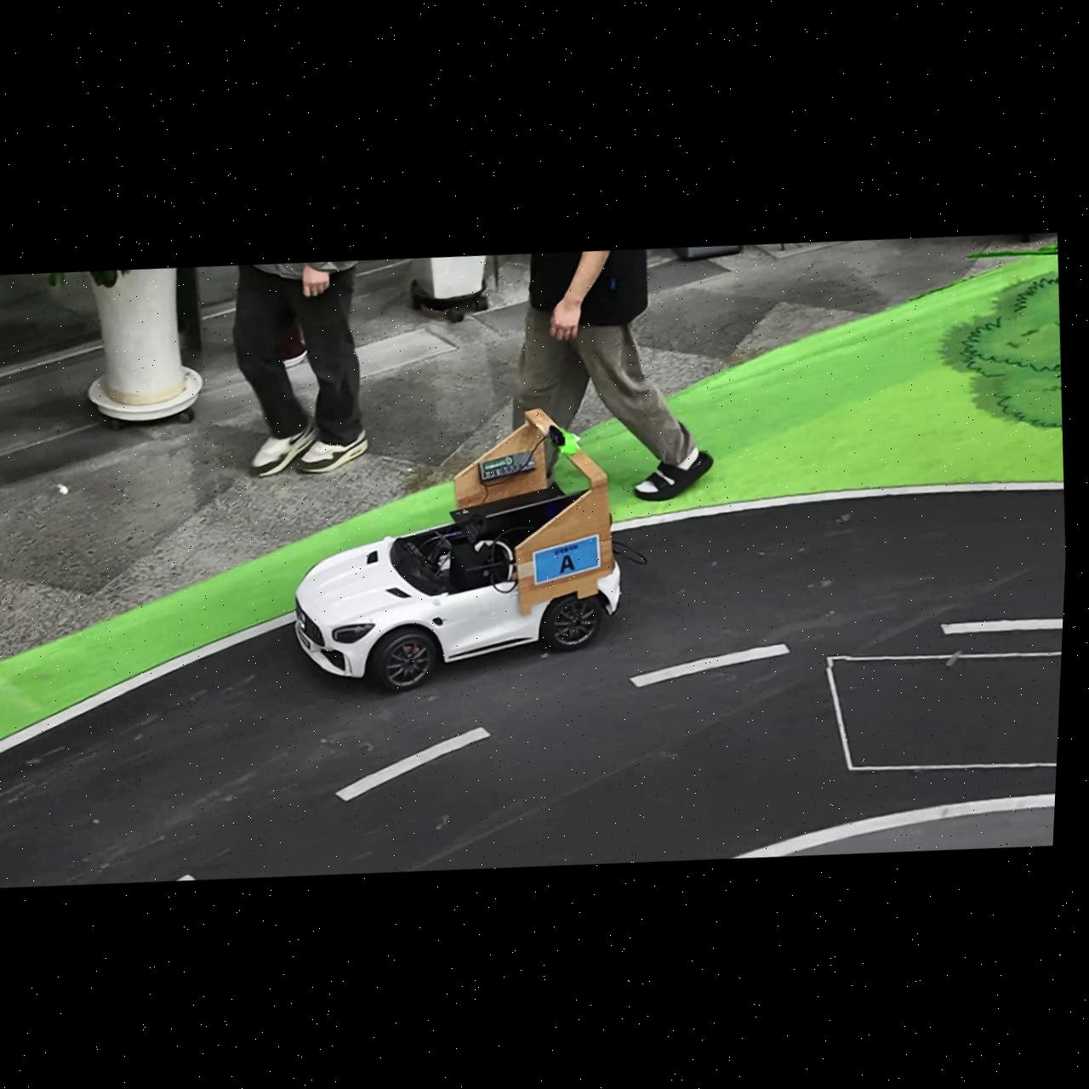broken_line: (336, 728, 490, 801), (631, 644, 790, 687), (941, 618, 1063, 634), (177, 874, 196, 880)
